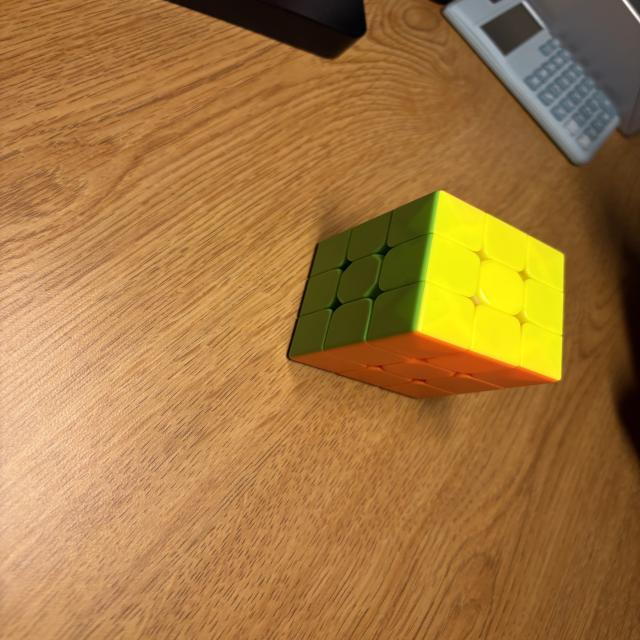Rubiks Cube: (289, 190, 565, 399)
